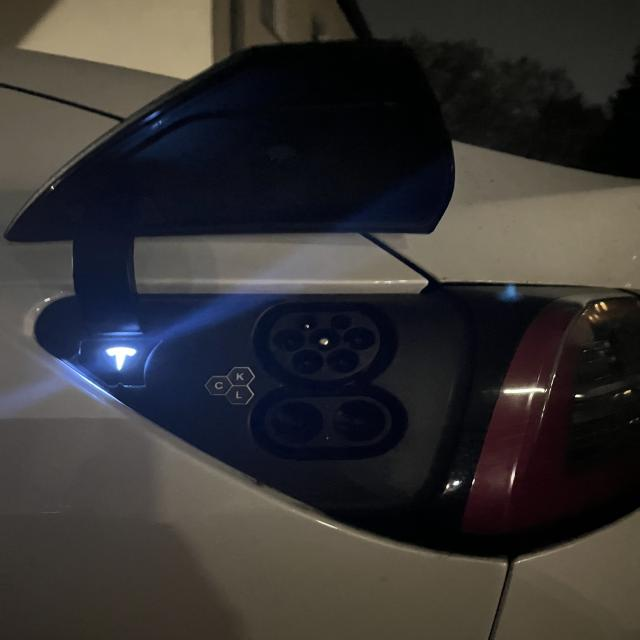inlet: (269, 312, 381, 380)
inlet-above-left: (295, 314, 318, 330)
inlet-above-right: (330, 313, 353, 329)
inlet-below-left: (290, 349, 323, 374)
inlet-below-right: (326, 349, 359, 372)
inlet-circle: (308, 328, 340, 351)
inlet-circle-left: (274, 328, 306, 352)
inlet-circle-right: (344, 327, 376, 350)
inlet-minus: (332, 400, 386, 441)
inlet-plus: (269, 401, 323, 442)
